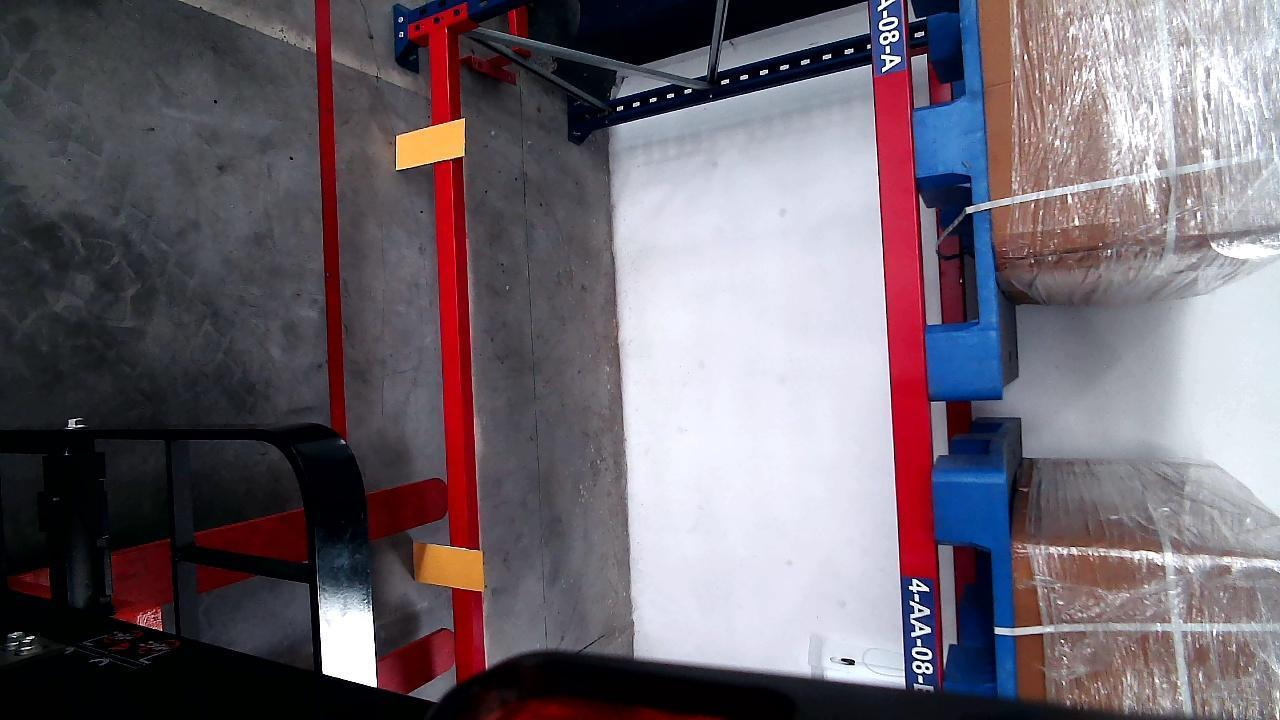h_rack: (870, 0, 940, 694), (426, 16, 482, 679)
orange_strip: (395, 118, 464, 171), (414, 542, 484, 591)
red_line: (314, 1, 348, 442)
small_pallet: (913, 0, 1009, 395), (934, 466, 1010, 696)
